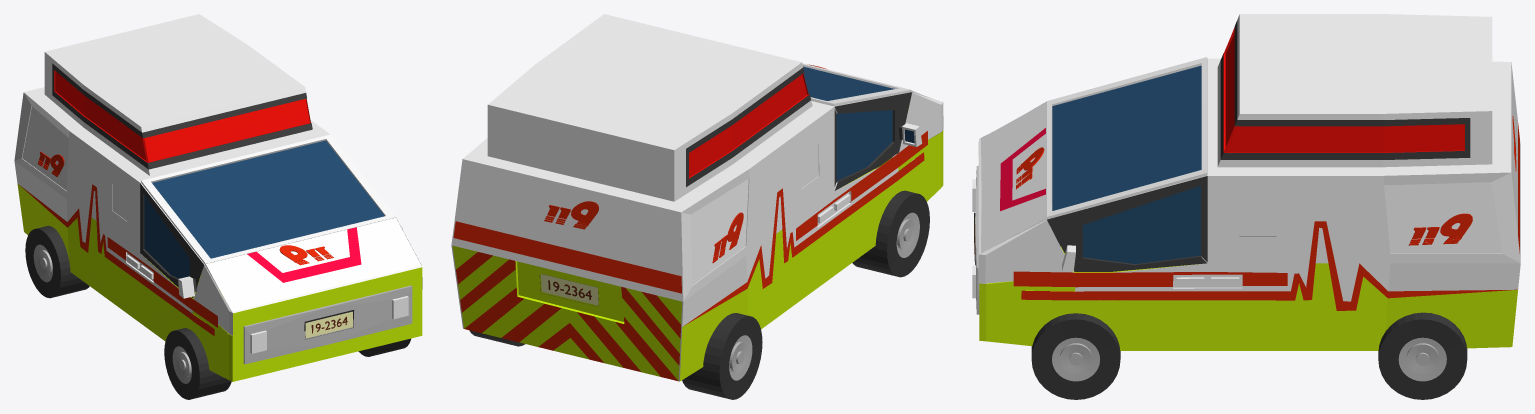
The model's file is ambulance4800.fbx.
3 views of the same model, side by side, from view 1: azimuth 30°, elevation 25°; view 2: azimuth 150°, elevation 25°; view 3: azimuth 270°, elevation 25° (orthographic). The views are drawn at different scales.
Parts seen in each view (by area): view 1: ambulance; view 2: ambulance; view 3: ambulance.
Boxes of the visible parts, x1,y1,x2,y2 form: ambulance: [14, 14, 422, 399]; ambulance: [451, 14, 943, 399]; ambulance: [972, 14, 1520, 399].
Bounding box in the file's own units: 132 × 124 × 227.
